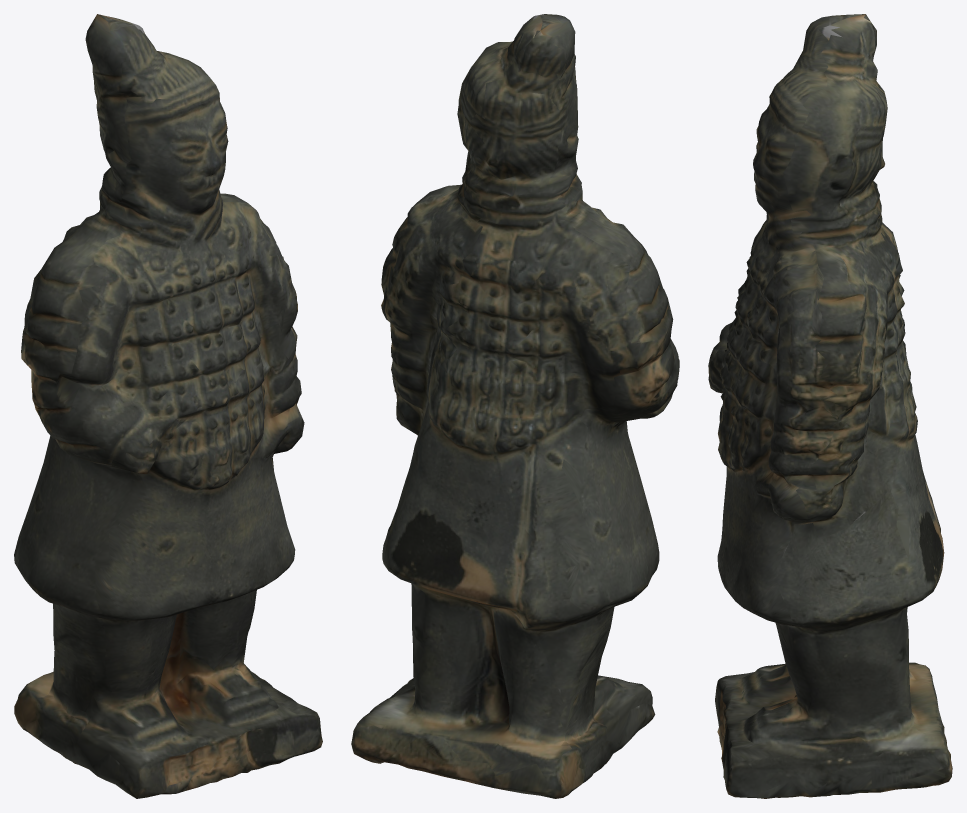
The model's file is mdl_namo_krub_infantry.gltf.
3 views of the same model, side by side, from view 1: azimuth 30°, elevation 25°; view 2: azimuth 150°, elevation 25°; view 3: azimuth 270°, elevation 25° (orthographic). The views are drawn at different scales.
Visible parts, largest first — view 1: Object_3; view 2: Object_3; view 3: Object_3.
Boxes of the visible parts, x1=… form: Object_3: x1=14, y1=14, x2=322, y2=798; Object_3: x1=351, y1=14, x2=679, y2=798; Object_3: x1=708, y1=14, x2=952, y2=798.
Bounding box in the file's own units: 18.68 × 49.73 × 15.33.
1 material, 1 textured.
